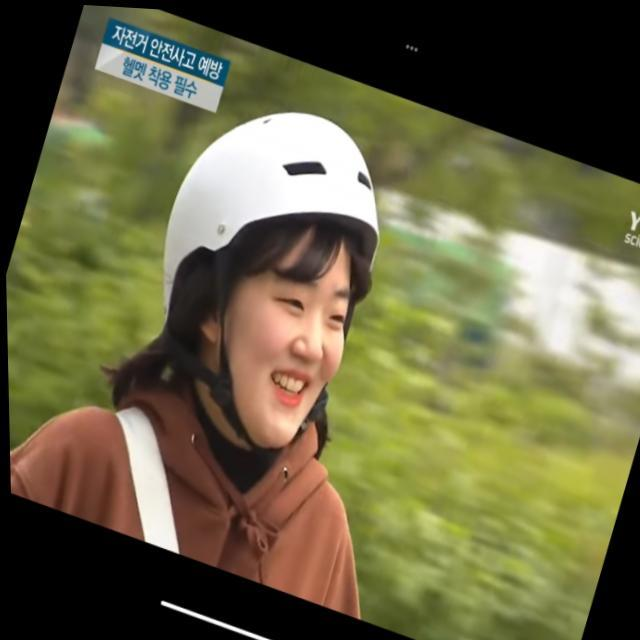Helmet: (101, 106, 387, 460)
